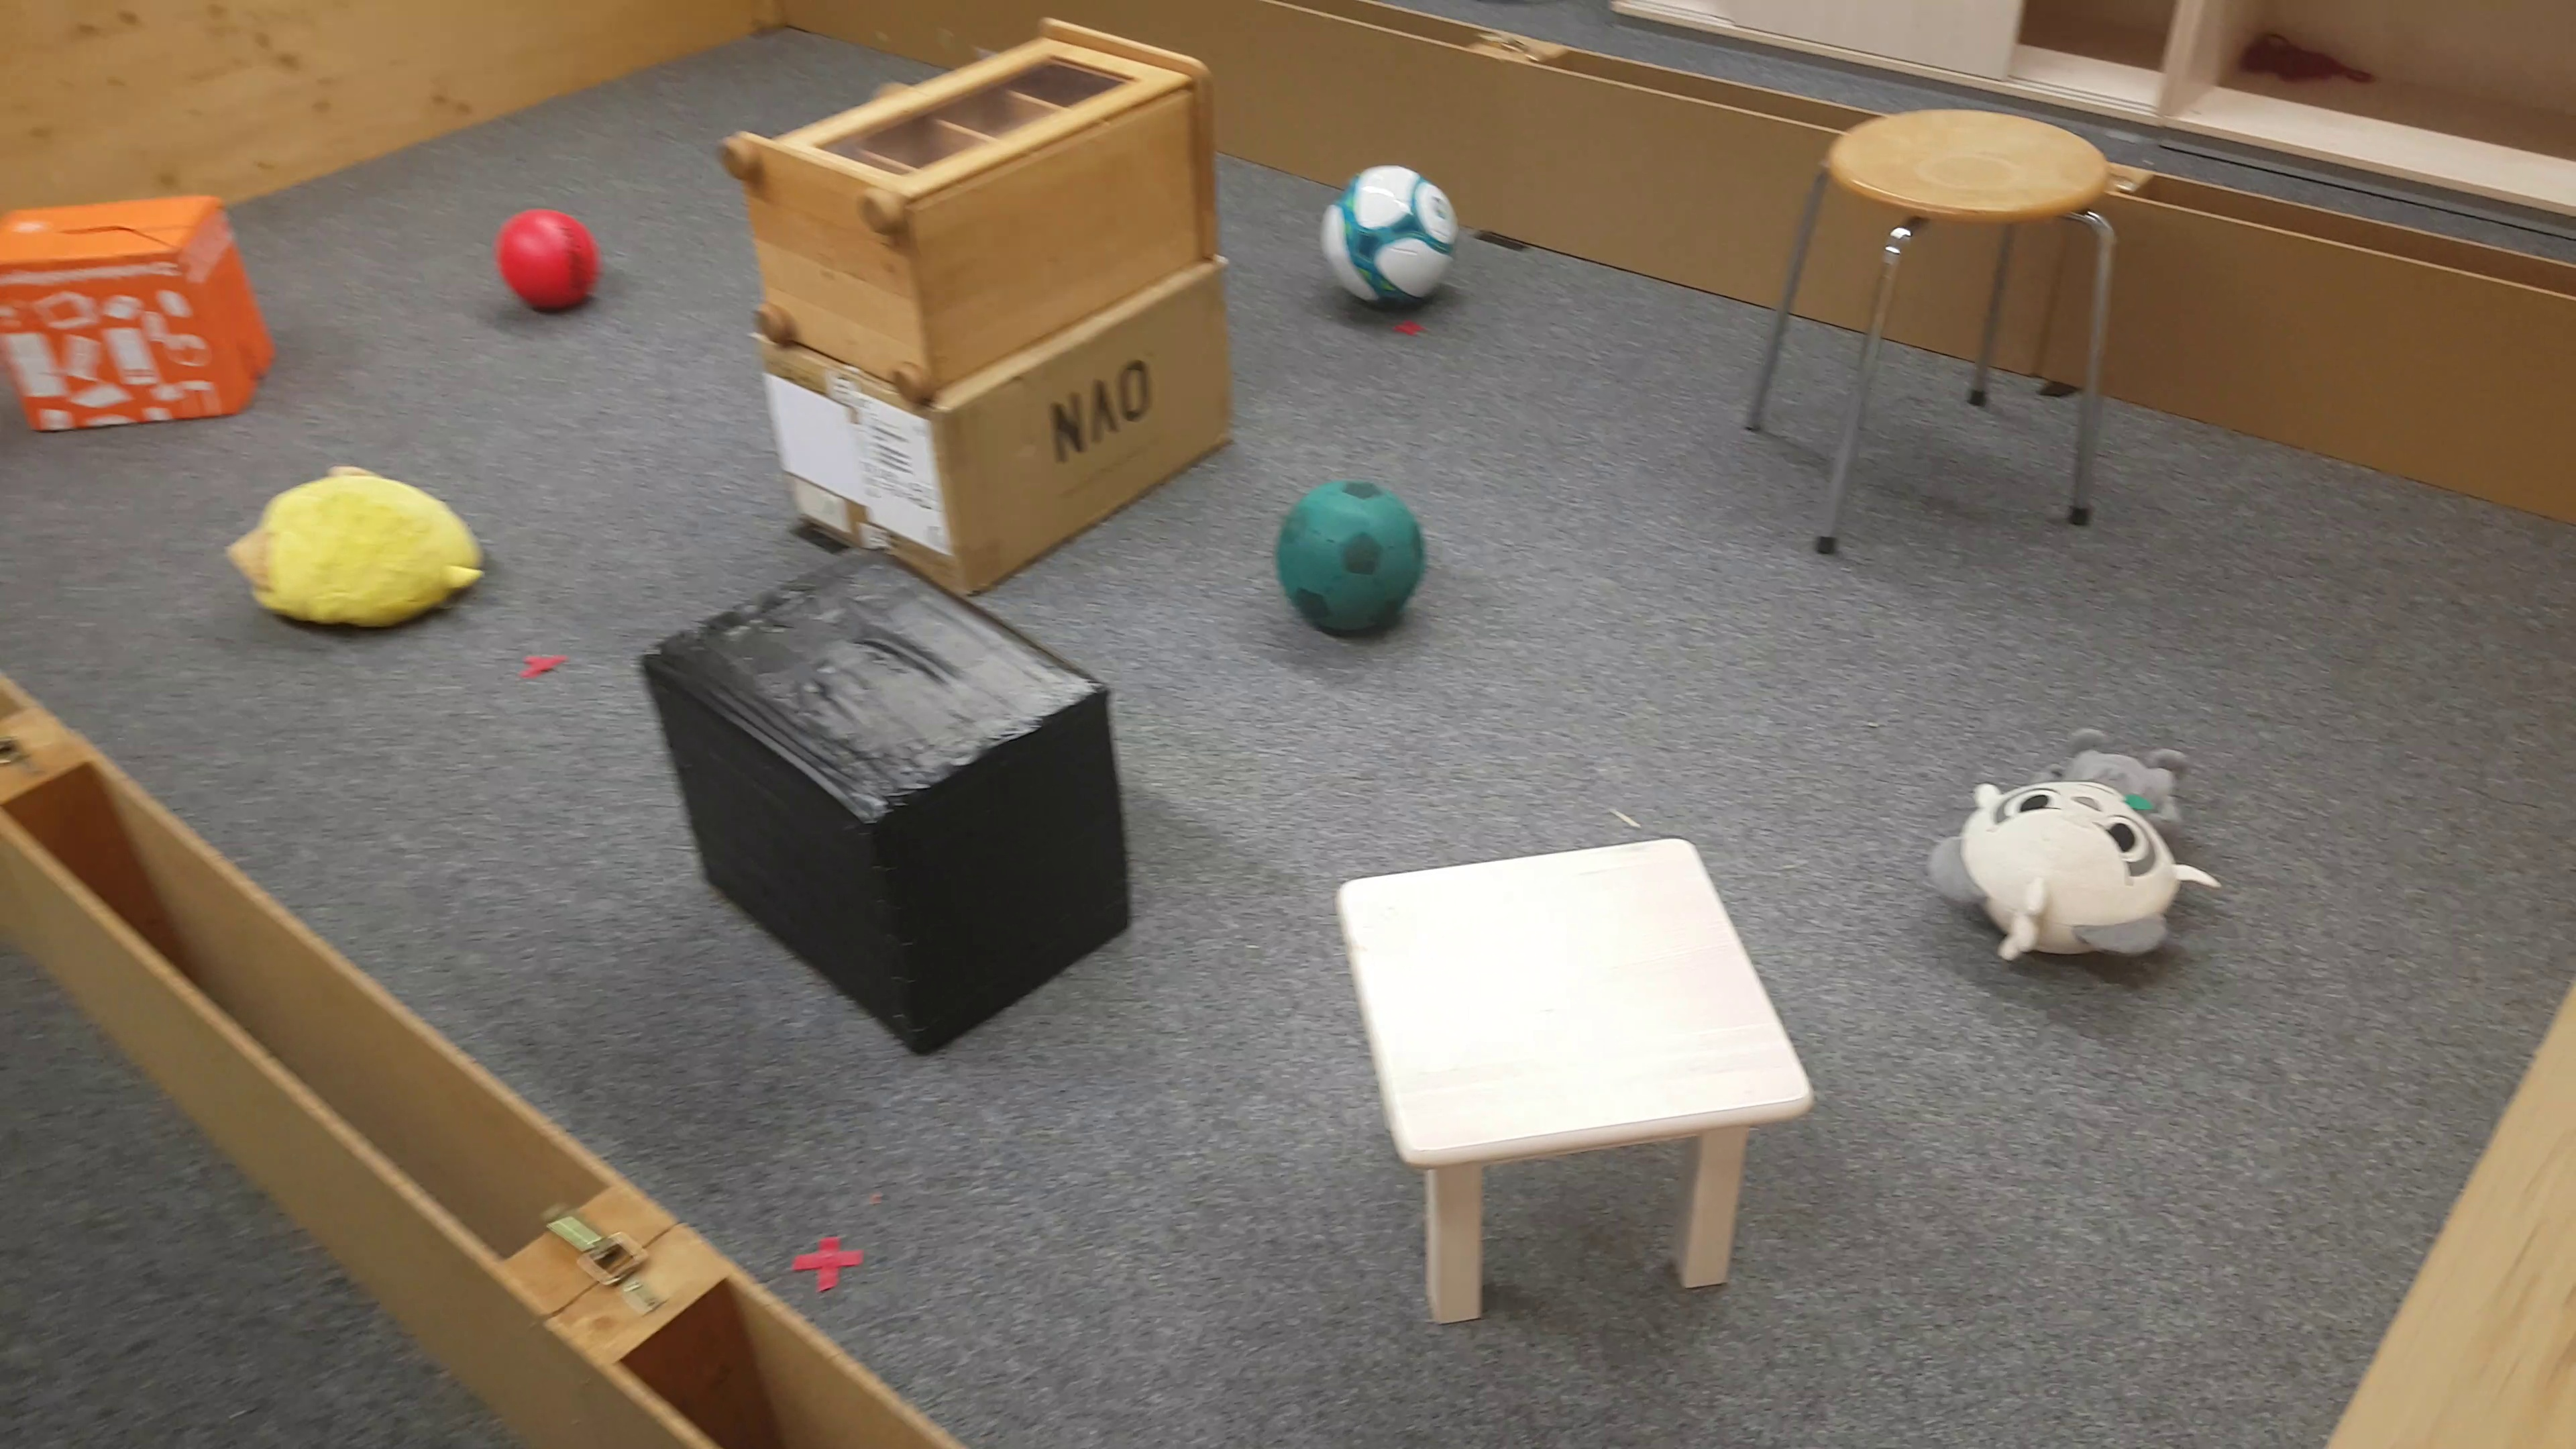grasp: (1944, 729, 2206, 978), (230, 465, 478, 637)
kick: (1276, 481, 1430, 655), (1316, 161, 1463, 320), (497, 207, 603, 317)
push: (640, 545, 1143, 1049), (0, 198, 274, 430)
